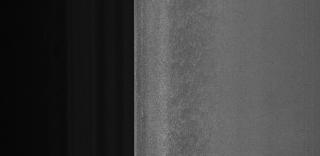silk spot: (165, 8, 222, 146)
